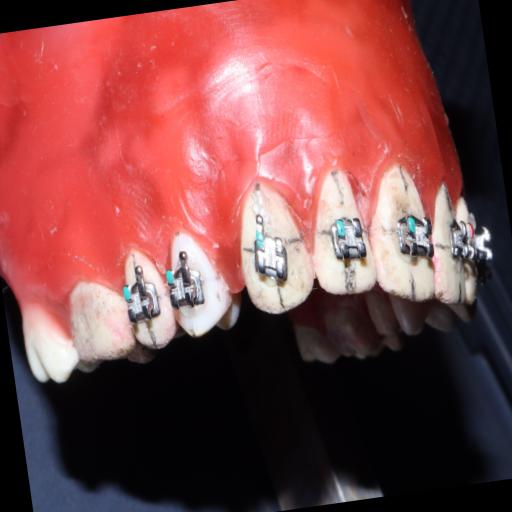incorrect_brace: (298, 156, 380, 302), (250, 224, 294, 285), (326, 210, 372, 264)
